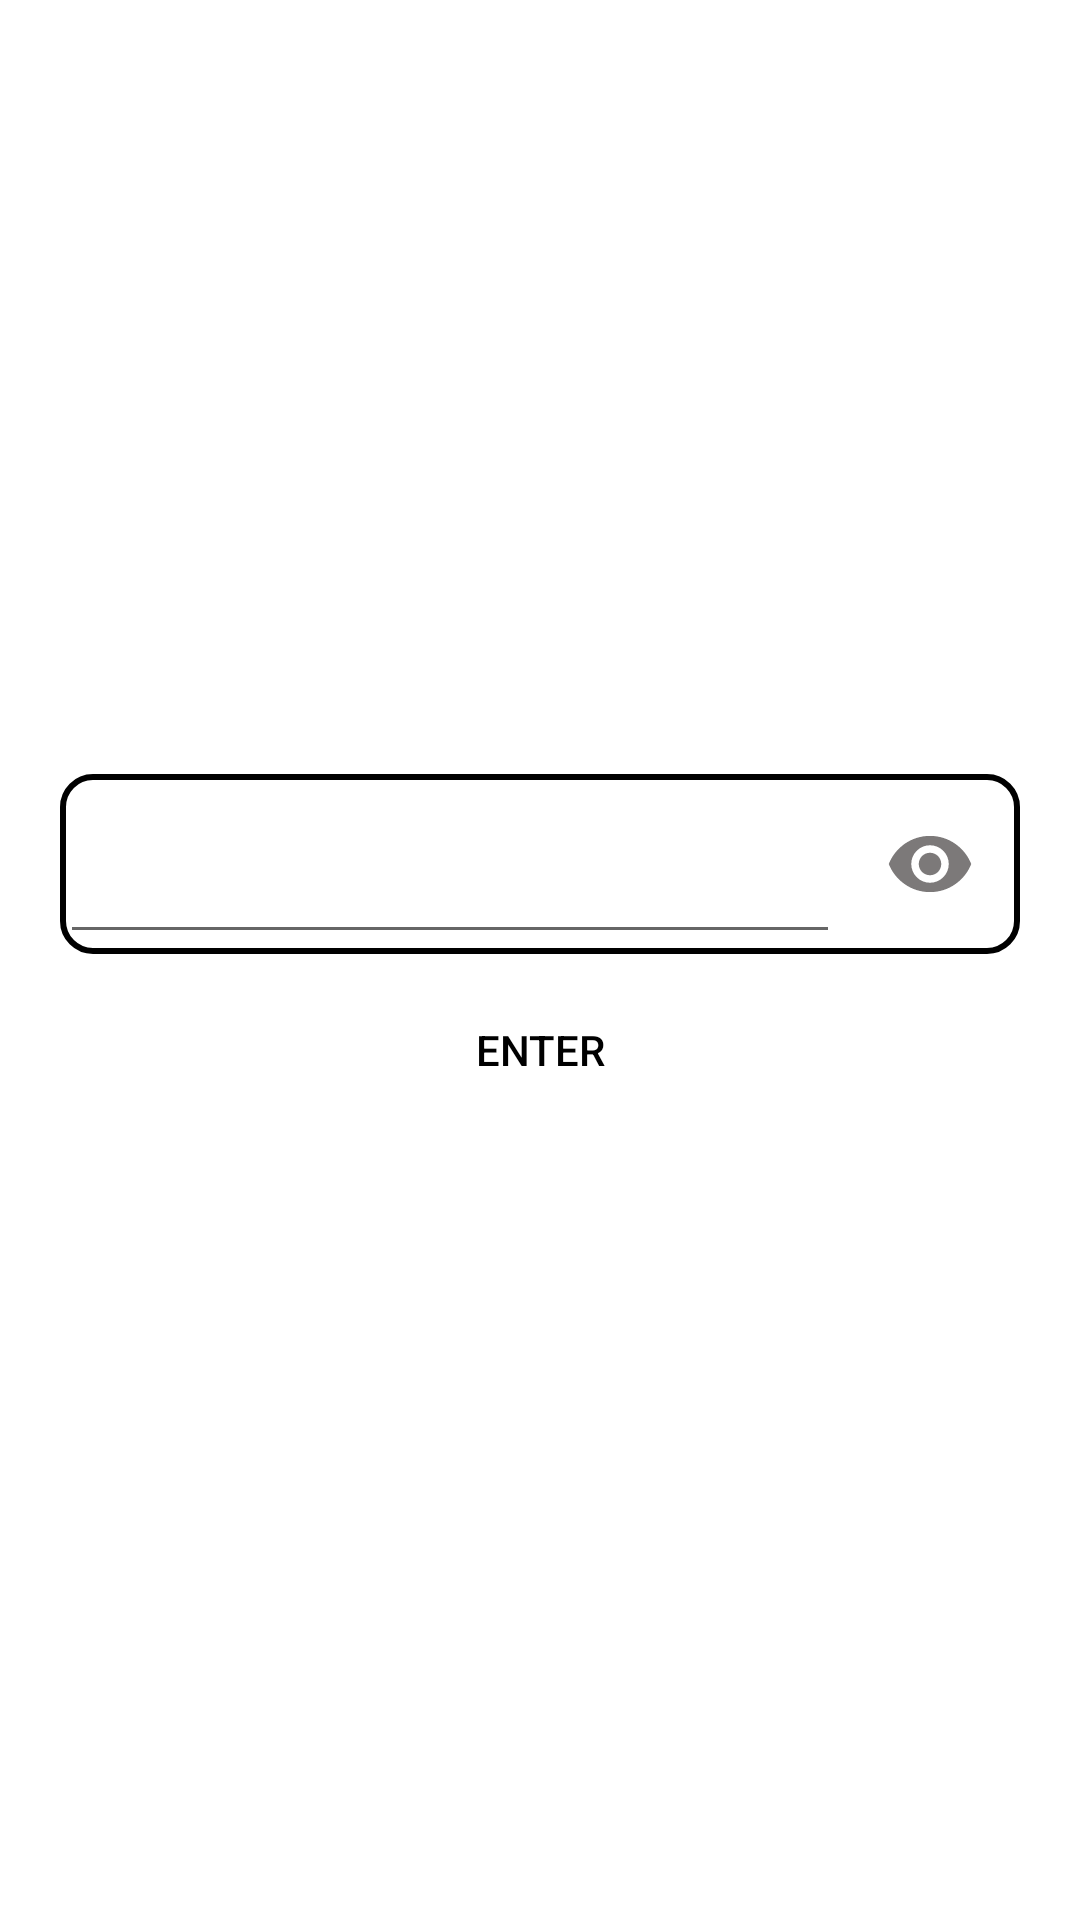

Icon click points for this 1080w x 1920h phone screenshot, format (x,y):
eye: (930,864)
